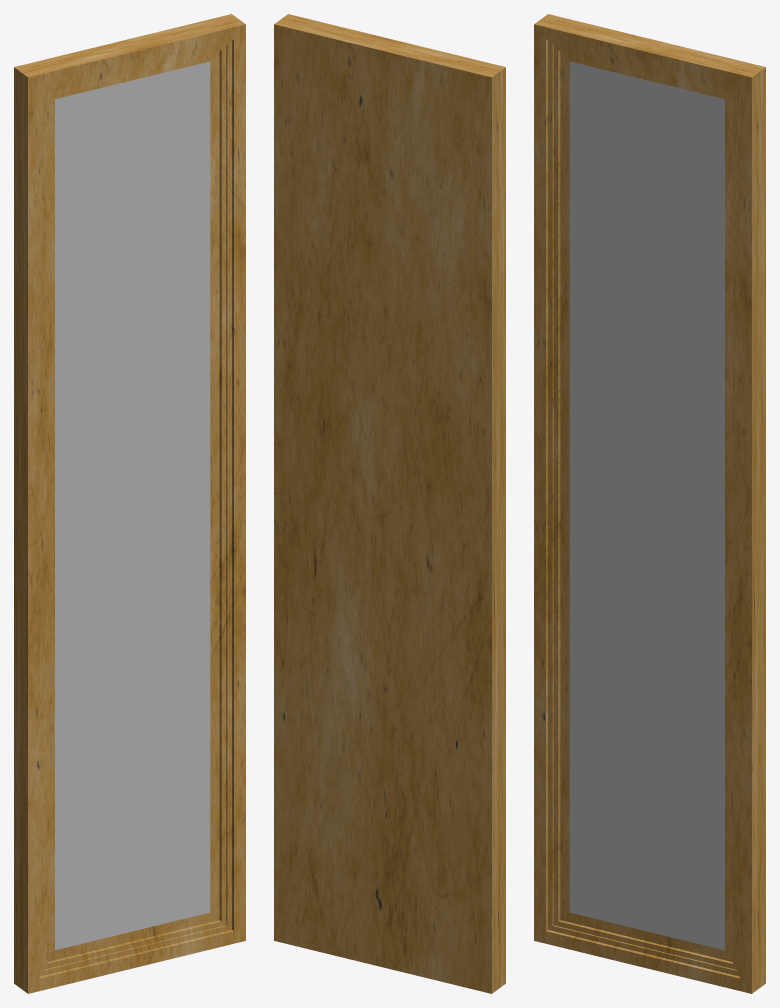
The model's file is Mirror.fbx.
3 renders of one model, left to right at view 1: azimuth 30°, elevation 25°; view 2: azimuth 150°, elevation 25°; view 3: azimuth 330°, elevation 25°, orthographic.
Visible parts, largest first — view 1: Pane, Frame; view 2: Frame; view 3: Pane, Frame.
Part boxes in pixels (<box>): Pane: <box>55,61,210,950</box>; Frame: <box>14,14,245,993</box>; Frame: <box>274,14,505,993</box>; Pane: <box>569,61,724,950</box>; Frame: <box>534,14,765,993</box>.
Size of the model in its own units: 218 by 876 by 24.5.
2 materials, 1 textured.
